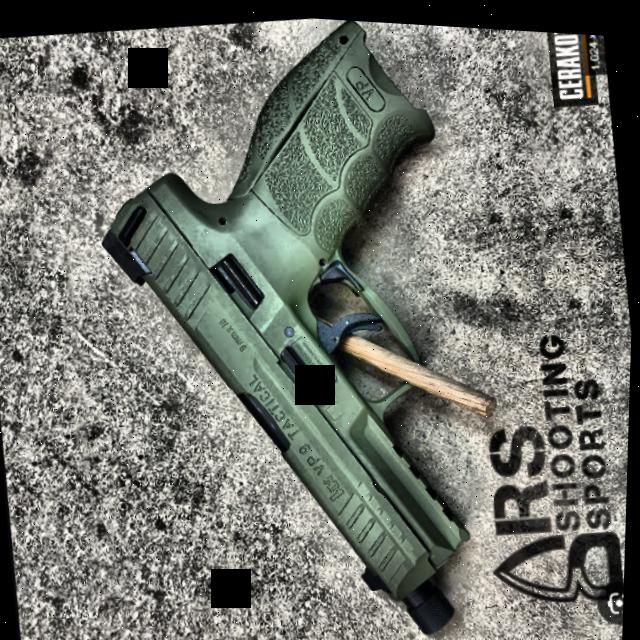HKVP9: (65, 4, 533, 640)
